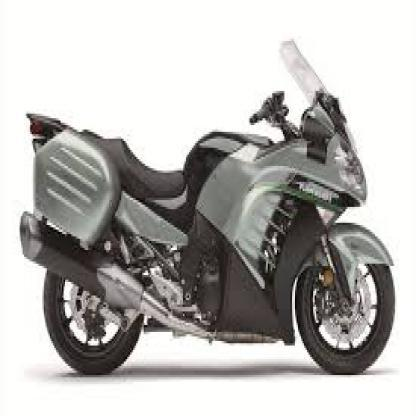Motorcycle: (15, 39, 401, 384)
